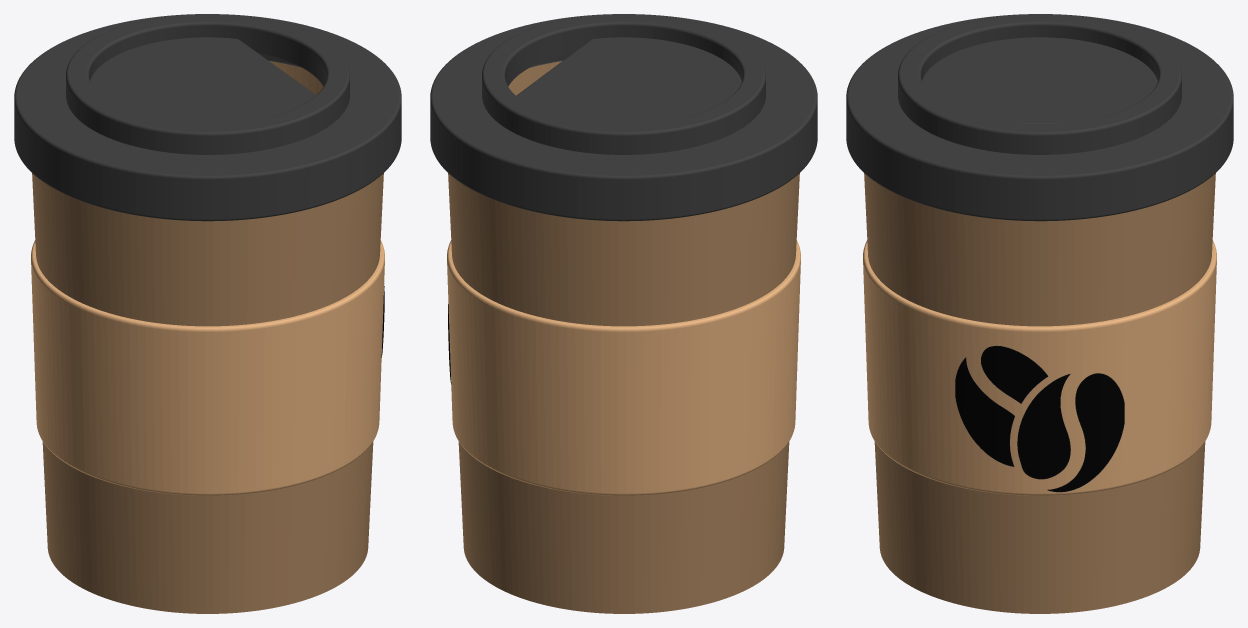
Rendered from coffee_cup_3d_model.fbx.
3 views of the same model, side by side, from view 1: azimuth 30°, elevation 25°; view 2: azimuth 150°, elevation 25°; view 3: azimuth 270°, elevation 25° (orthographic).
Visible parts, largest first — view 1: node_66a77778_6c6a_44e0_8ce8_b039f4051866_mesh0, node_97f94cf0_dc66_4ba0_97f5_8fac5aa334a0_mesh0, node_f86acc96_95b9_4c75_88ff_338a38472df0_mesh0; view 2: node_66a77778_6c6a_44e0_8ce8_b039f4051866_mesh0, node_97f94cf0_dc66_4ba0_97f5_8fac5aa334a0_mesh0, node_f86acc96_95b9_4c75_88ff_338a38472df0_mesh0; view 3: node_66a77778_6c6a_44e0_8ce8_b039f4051866_mesh0, node_97f94cf0_dc66_4ba0_97f5_8fac5aa334a0_mesh0, node_f86acc96_95b9_4c75_88ff_338a38472df0_mesh0, node_26d1a90d_1aa0_4586_ba37_f45177b1d922_mesh0.
Part boxes in pixels (x1,y1,x2,y2): node_66a77778_6c6a_44e0_8ce8_b039f4051866_mesh0: (32, 61, 383, 613); node_97f94cf0_dc66_4ba0_97f5_8fac5aa334a0_mesh0: (14, 14, 401, 221); node_f86acc96_95b9_4c75_88ff_338a38472df0_mesh0: (31, 240, 384, 495); node_66a77778_6c6a_44e0_8ce8_b039f4051866_mesh0: (448, 61, 799, 613); node_97f94cf0_dc66_4ba0_97f5_8fac5aa334a0_mesh0: (430, 14, 817, 221); node_f86acc96_95b9_4c75_88ff_338a38472df0_mesh0: (447, 240, 800, 495); node_66a77778_6c6a_44e0_8ce8_b039f4051866_mesh0: (864, 173, 1215, 613); node_97f94cf0_dc66_4ba0_97f5_8fac5aa334a0_mesh0: (846, 14, 1233, 221); node_f86acc96_95b9_4c75_88ff_338a38472df0_mesh0: (863, 240, 1216, 495); node_26d1a90d_1aa0_4586_ba37_f45177b1d922_mesh0: (955, 345, 1124, 492).
Size of the model in its own units: 215 by 290 by 215.
4 materials, 1 textured.
